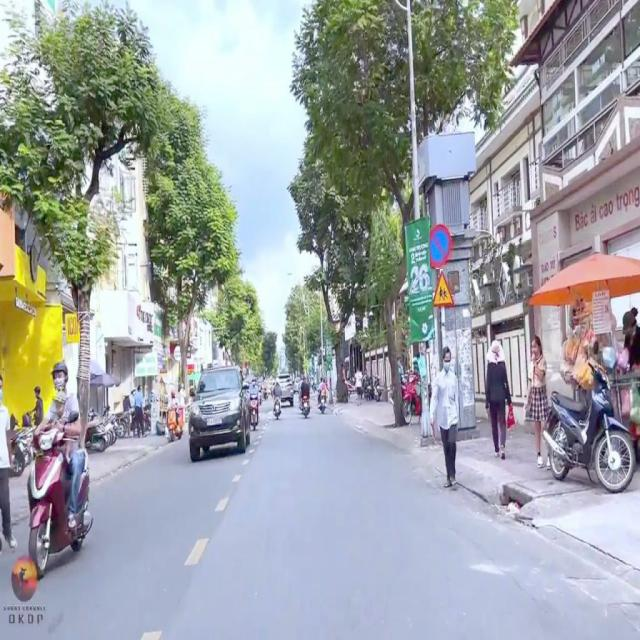cam_dung_xe_va_do_xe: (430, 224, 454, 269)
chu_y_tre_em: (433, 271, 455, 307)
